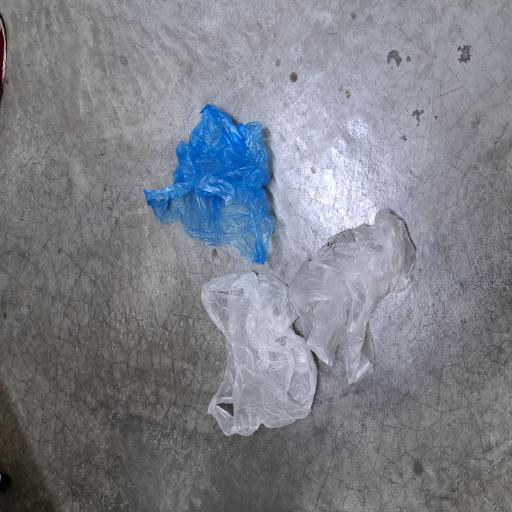plastic bag: (188, 188, 300, 366), (52, 274, 183, 418), (95, 390, 228, 512)
